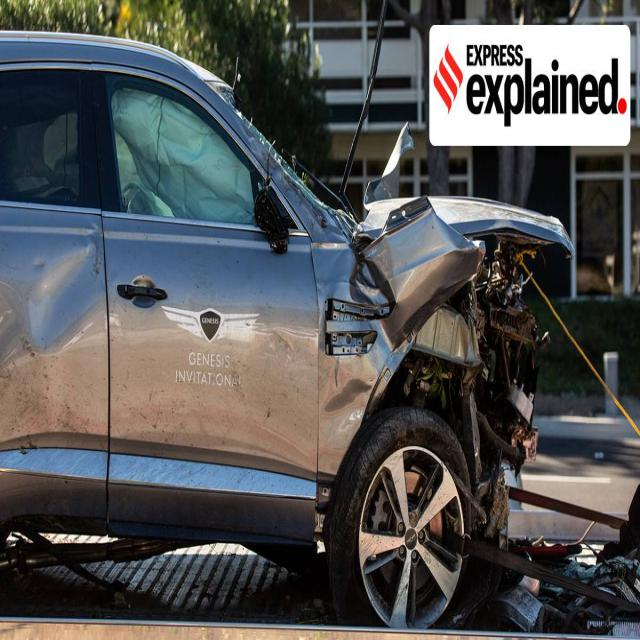accident: (0, 34, 570, 627)
